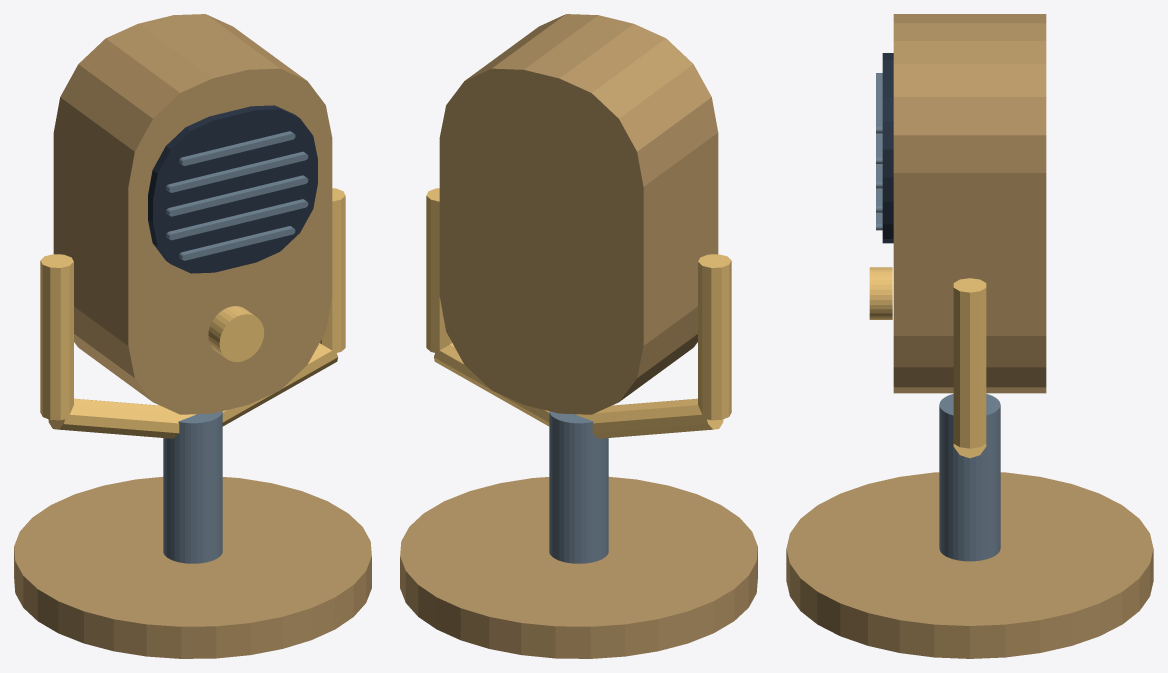
The model's file is mic.glb.
The picture shows the model from 3 angles, left to right: view 1: azimuth 30°, elevation 25°; view 2: azimuth 150°, elevation 25°; view 3: azimuth 270°, elevation 25°; orthographic projection. The views are drawn at different scales.
Parts seen in each view (by area): view 1: capsule, base, grille, stand, yoke0, yoke1, yoke3, mute key, mesh bar 3, mesh bar 1, mesh bar 2, yoke2 (+2 smaller); view 2: capsule, base, stand, yoke0, yoke1, yoke3, yoke2; view 3: capsule, base, stand, yoke3, grille, mute key.
Part boxes in pixels (<box>): capsule: <box>53,14,332,414</box>; base: <box>14,476,371,658</box>; grille: <box>148,105,317,273</box>; stand: <box>163,411,222,563</box>; yoke0: <box>40,254,73,420</box>; yoke1: <box>48,398,195,438</box>; yoke3: <box>320,188,345,352</box>; mute key: <box>208,306,264,362</box>; mesh bar 3: <box>166,151,308,192</box>; mesh bar 1: <box>166,199,308,240</box>; mesh bar 2: <box>166,175,308,216</box>; yoke2: <box>222,343,337,426</box>; capsule: <box>439,14,718,414</box>; base: <box>400,476,757,658</box>; stand: <box>549,411,608,563</box>; yoke0: <box>698,254,731,420</box>; yoke1: <box>576,398,723,438</box>; yoke3: <box>426,188,451,352</box>; yoke2: <box>434,343,549,426</box>; capsule: <box>893,14,1046,393</box>; base: <box>786,472,1153,658</box>; stand: <box>939,394,1000,561</box>; yoke3: <box>953,278,986,448</box>; grille: <box>882,53,893,243</box>; mute key: <box>869,267,892,319</box>.
Bounding box in the file's own units: 0.96 × 1.59 × 0.96.
